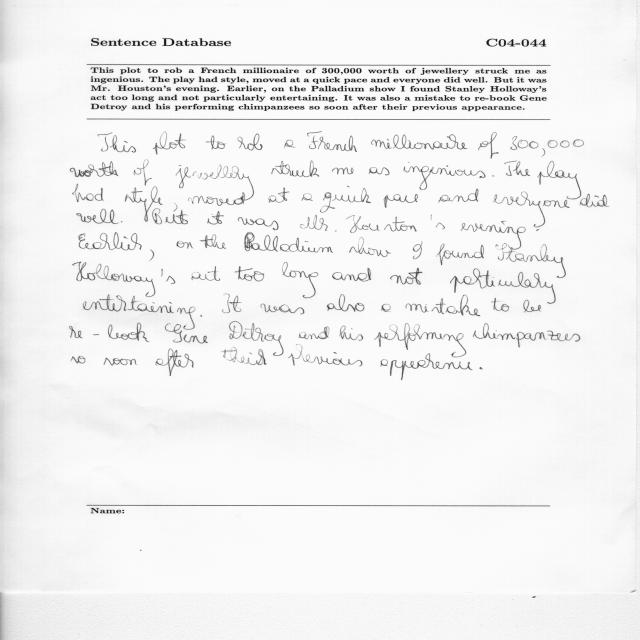word: (84, 294, 196, 330), (450, 268, 556, 304), (73, 262, 176, 297), (374, 323, 467, 357), (494, 192, 570, 228), (473, 323, 580, 348), (380, 353, 473, 380), (404, 163, 486, 190), (405, 295, 510, 316), (496, 234, 564, 266), (229, 321, 283, 356), (244, 233, 333, 253), (176, 165, 250, 189), (347, 215, 445, 233), (538, 161, 582, 199), (188, 180, 254, 204), (288, 345, 363, 366), (510, 136, 584, 157), (371, 134, 467, 150), (70, 323, 149, 342), (322, 185, 371, 213), (125, 186, 162, 222), (283, 262, 319, 298), (79, 234, 142, 251), (437, 244, 484, 266), (156, 349, 194, 376), (77, 209, 119, 233), (307, 132, 357, 152), (165, 324, 208, 344), (349, 237, 391, 257), (272, 160, 320, 177), (222, 347, 267, 365), (461, 221, 526, 233), (70, 161, 118, 177), (98, 133, 136, 153), (153, 132, 186, 155), (439, 189, 495, 202), (327, 294, 365, 312), (238, 217, 279, 233), (300, 215, 337, 232), (478, 132, 499, 159), (390, 268, 423, 285), (73, 184, 104, 202), (332, 268, 371, 282), (152, 209, 188, 224), (261, 304, 305, 315), (384, 194, 418, 208), (133, 160, 152, 185), (235, 266, 265, 281), (238, 134, 263, 151), (192, 266, 220, 281), (299, 327, 330, 340), (504, 161, 530, 176), (200, 234, 226, 249), (302, 194, 322, 213), (222, 294, 242, 313), (580, 194, 609, 207), (340, 326, 364, 341), (269, 187, 290, 203), (206, 135, 227, 150), (103, 358, 137, 366), (523, 300, 541, 313), (207, 211, 224, 224), (369, 167, 390, 175), (413, 241, 422, 259), (332, 168, 353, 175), (177, 241, 194, 249), (72, 356, 86, 364), (285, 140, 297, 148), (381, 304, 391, 312), (150, 250, 154, 261), (174, 203, 178, 211), (479, 367, 483, 369), (536, 229, 539, 231), (493, 175, 495, 177), (121, 221, 123, 223), (200, 315, 202, 317)
